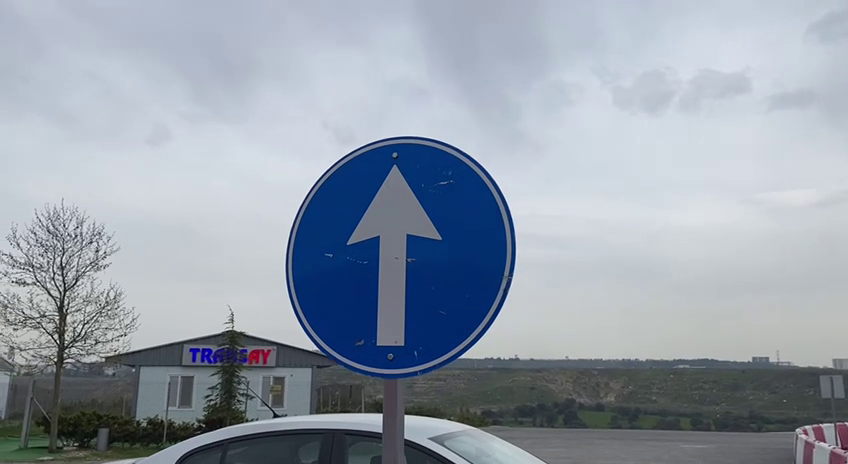forward: (278, 131, 527, 382)
